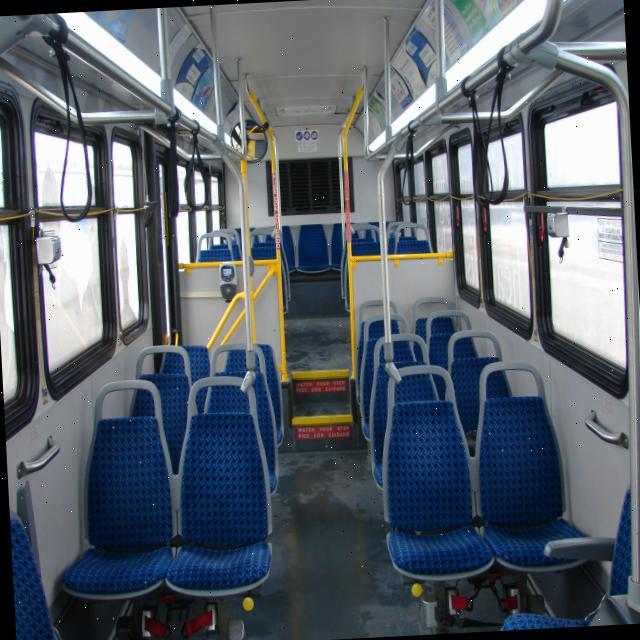empty-seat-frontal: (46, 376, 182, 599), (466, 355, 598, 581), (150, 372, 278, 602), (372, 359, 498, 585)
